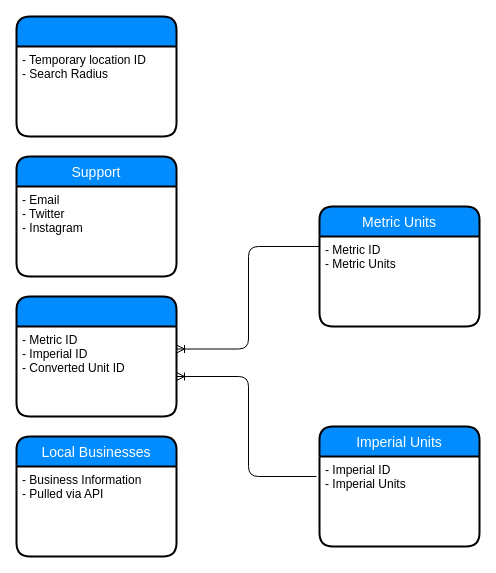
Some shapes in this 496 by 573 pixel diagram are drawn without their labels. The shapes that lost their labels are listed below. From the top down, each one's box as (x1, y1, x2, y2) in pixels, then its label:
(15, 15, 177, 137): User Location
(15, 295, 177, 417): Conversion Calculator
